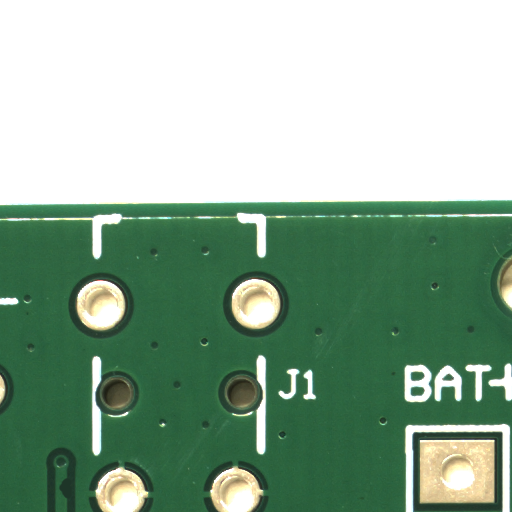Mouse_bite: (63, 488, 73, 509)
